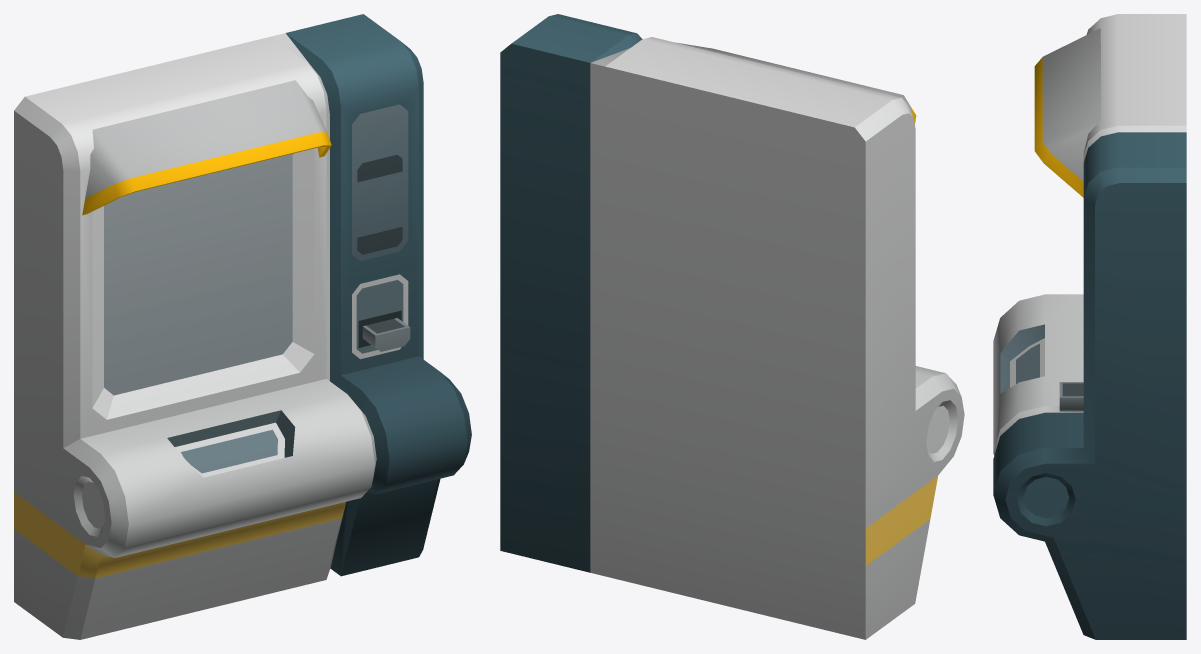
The model's file is Vending_Machine_003.fbx.
The picture shows the model from 3 angles, left to right: view 1: azimuth 30°, elevation 25°; view 2: azimuth 150°, elevation 25°; view 3: azimuth 270°, elevation 25°; orthographic projection. The views are drawn at different scales.
Visible parts, largest first — view 1: Vending_Machine_003; view 2: Vending_Machine_003; view 3: Vending_Machine_003.
Part boxes in pixels (x1,y1,x2,y2): Vending_Machine_003: (14, 14, 471, 639); Vending_Machine_003: (500, 14, 964, 639); Vending_Machine_003: (993, 14, 1186, 639).
Bounding box in the file's own units: 150 × 75 × 200.
